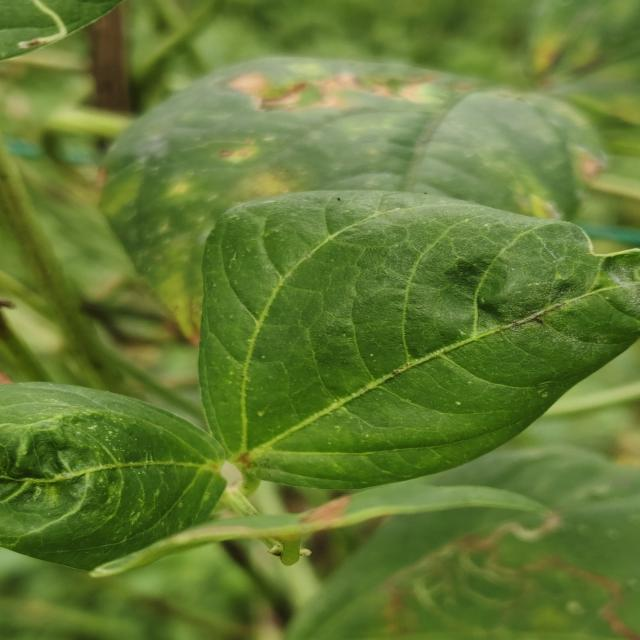sitaw-aphid-high: (199, 191, 640, 489), (0, 382, 225, 570)
sitaw-aphid-low: (107, 57, 614, 238)
